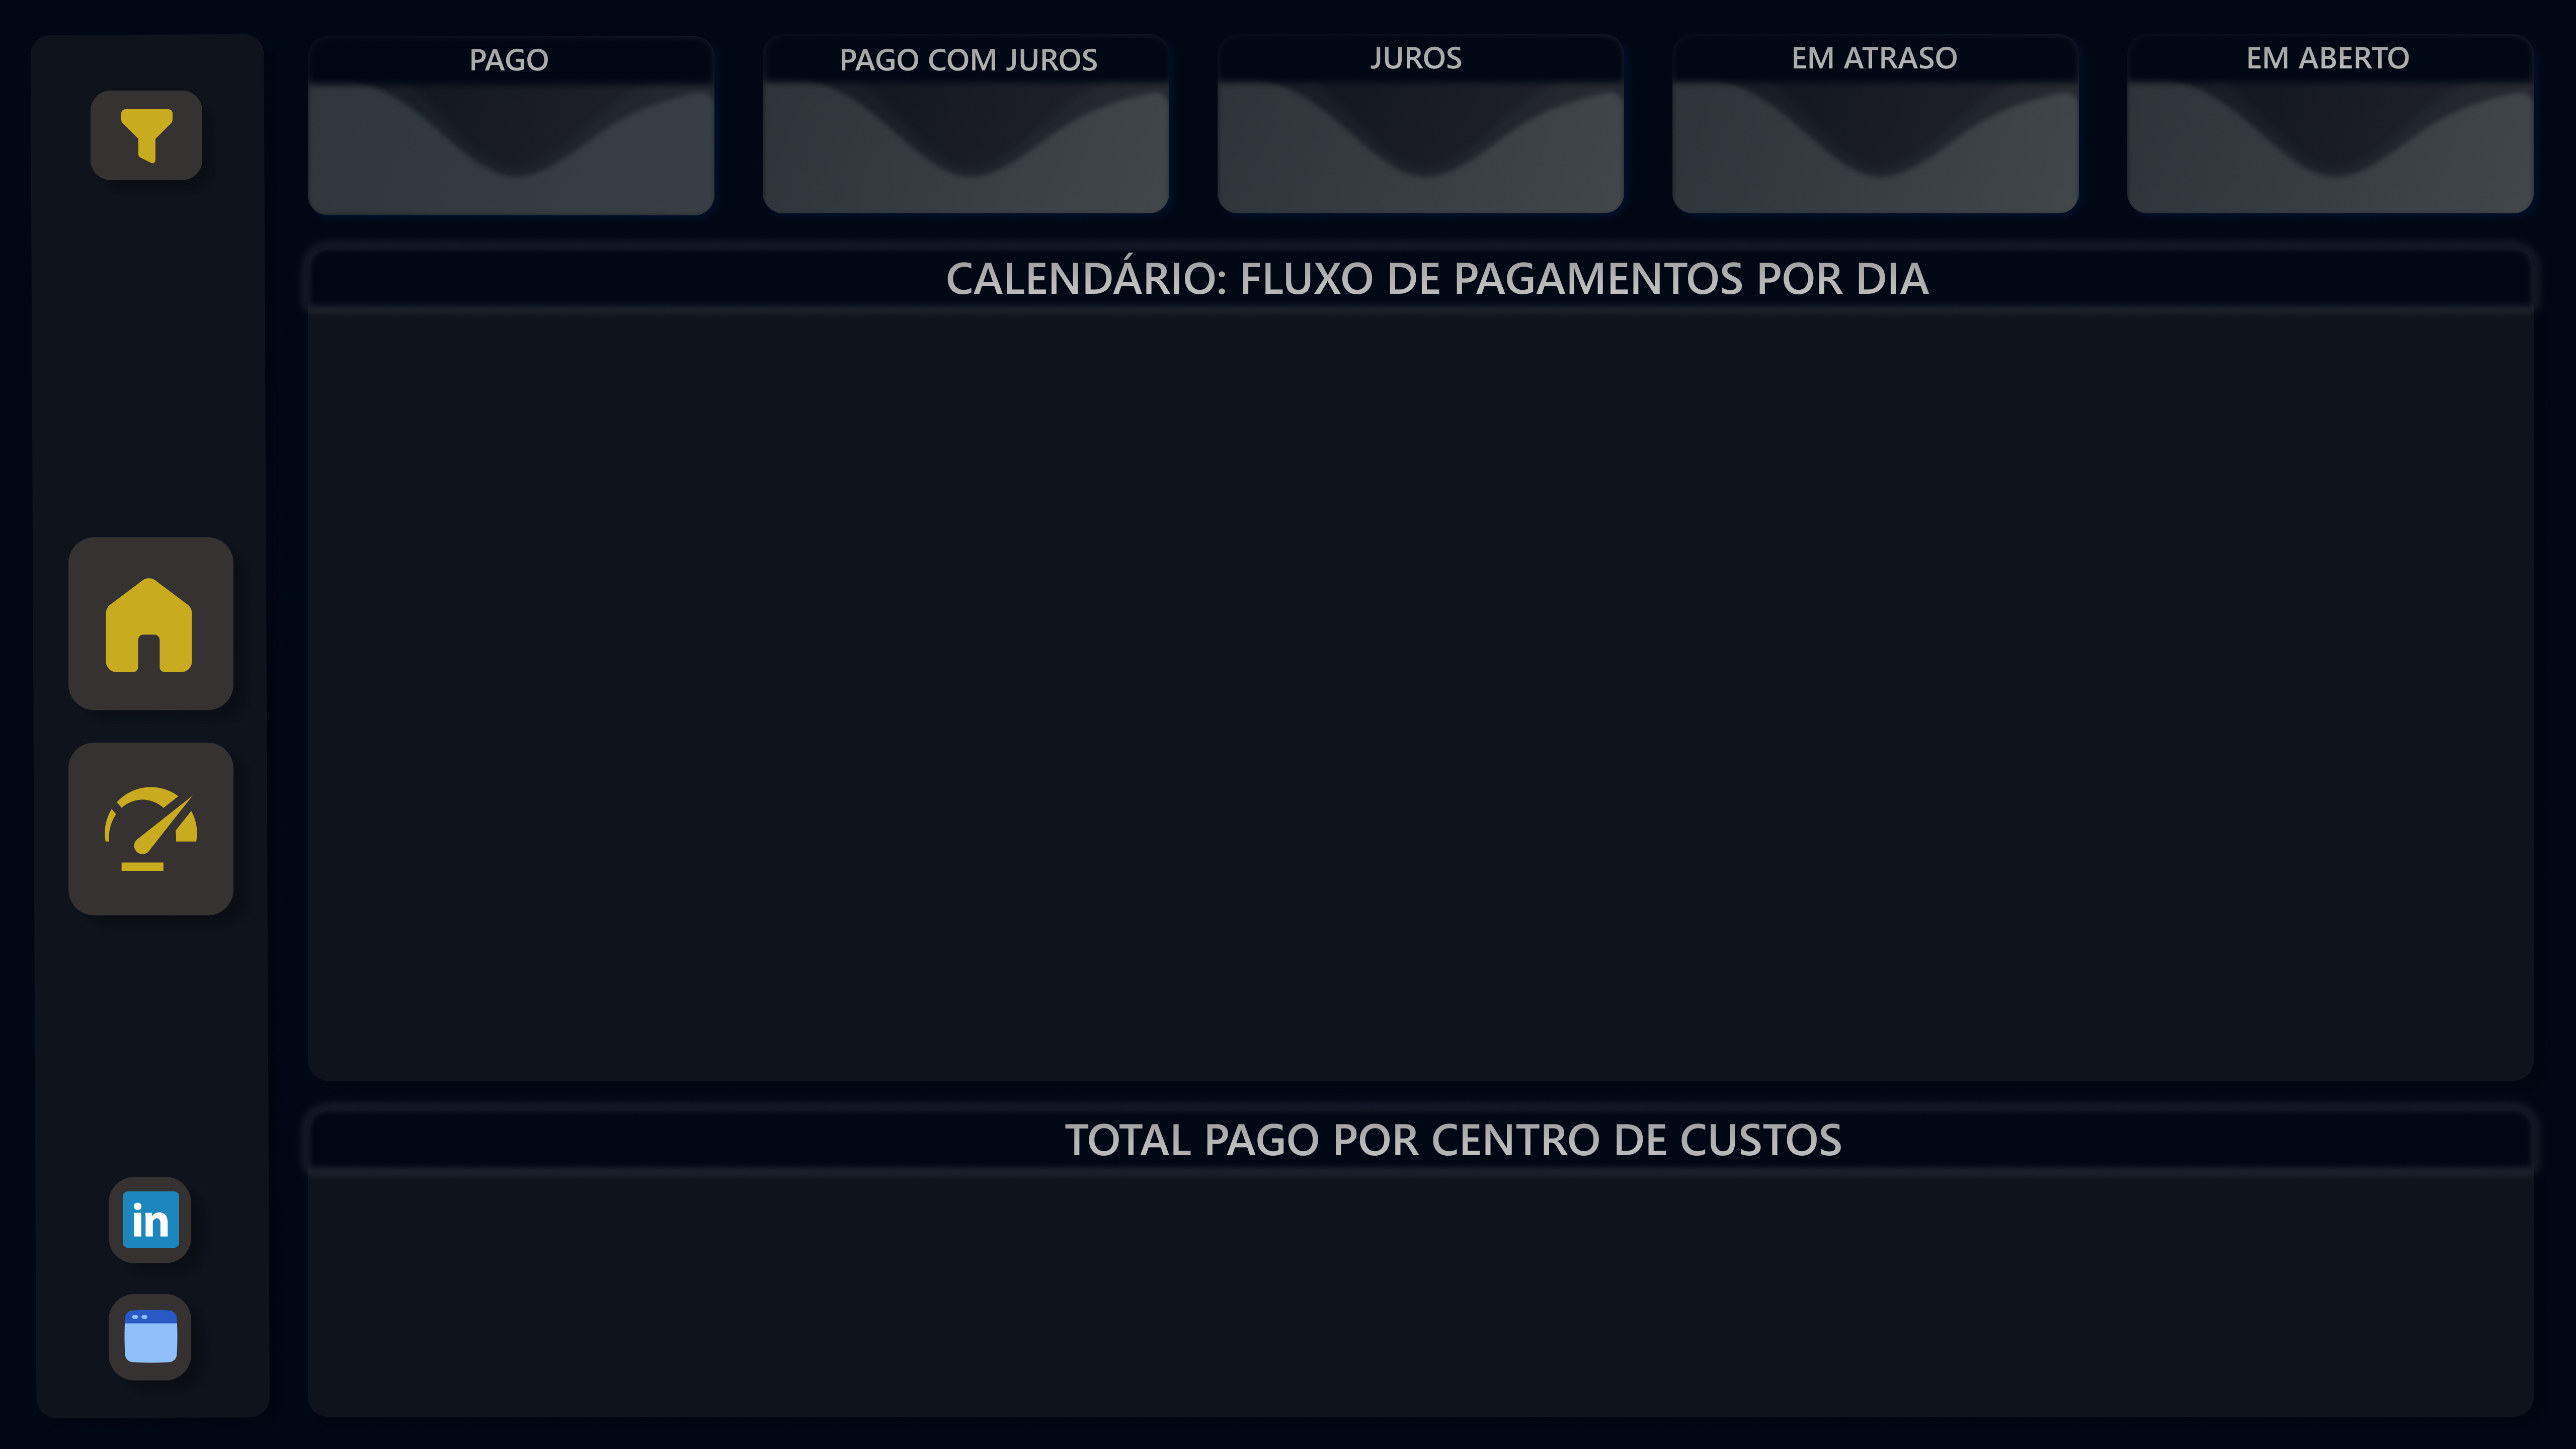

This screenshot's page, from the dashboard's own definition file:
{"tool":"powerbi","page":{"name":"Operacional","canvas":[1280,720],"ordinal":1},"visuals":[{"type":"pivotTable","title":"CALENDÁRIO: FLUXO DE PAGAMENTOS POR DIA","fields":{"Rows":["dCalendario.Nome do Mês","dCalendario.Semana do Mês"],"Columns":["dCalendario.Dia_Texto"],"Values":["Sum(fVendas.VALOR_ORIGINAL)"]},"box":[232.9,153.5,964.6,393.9],"z":0},{"type":"card","title":"Pago","fields":{"Values":["Medidas.Total_Pago"]},"box":[150,26,208.2,88.2],"z":1000},{"type":"card","title":"Em aberto","fields":{"Values":["Medidas.Total_a_Pagar"]},"box":[1043.4,26,224.2,88.3],"z":2000},{"type":"card","title":"Em Atraso","fields":{"Values":["Medidas.Total_Atrasado"]},"box":[818.1,26,225.8,87.3],"z":3000},{"type":"card","title":"Juros ","fields":{"Values":["Medidas.Total_Juros"]},"box":[594.4,26,223.3,87.2],"z":4000},{"type":"card","title":"Pago com Juros","fields":{"Values":["Medidas.Total Pago com Juros"]},"box":[378.2,26,208.2,87.3],"z":5000},{"type":"lineStackedColumnComboChart","title":"TOTAL PAGO POR CENTRO DE CUSTOS","fields":{"Category":["dCentroCusto.CENTRO_CUSTO"],"Y":["Medidas.Pago_Total"]},"box":[139.5,570.3,1130.9,143.6],"z":6000},{"type":"actionButton","box":[31.8,265.8,86.8,85.8],"z":7000},{"type":"actionButton","box":[31.8,369.5,86.8,85.8],"z":8000},{"type":"actionButton","box":[53.1,584.4,43.1,45],"z":9000},{"type":"actionButton","box":[53.1,641.9,43.1,45],"z":10000},{"type":"actionButton","box":[44.8,44.5,56.2,45],"z":12000}]}

Visuals, with their boxes on the page's 1280x720 design canvas (x1, y1, x2, y2). These are canvas units, not pixel positions in the 2576x1449 screenshot, which may show the page scaled, cropped or inside an application window:
"CALENDÁRIO: FLUXO DE PAGAMENTOS POR DIA" pivotTable: <box>233,154,1198,547</box>
"Pago" card: <box>150,26,358,114</box>
"Em aberto" card: <box>1043,26,1268,114</box>
"Em Atraso" card: <box>818,26,1044,113</box>
"Juros " card: <box>594,26,818,113</box>
"Pago com Juros" card: <box>378,26,586,113</box>
"TOTAL PAGO POR CENTRO DE CUSTOS" lineStackedColumnComboChart: <box>140,570,1270,714</box>
actionButton: <box>32,266,119,352</box>
actionButton: <box>32,370,119,455</box>
actionButton: <box>53,584,96,629</box>
actionButton: <box>53,642,96,687</box>
actionButton: <box>45,44,101,90</box>
